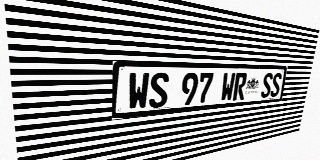7: (196, 73, 214, 104)
9: (180, 73, 199, 105)
R: (232, 73, 247, 101)
S: (149, 73, 169, 108), (260, 73, 273, 98), (270, 73, 282, 97)
W: (127, 72, 150, 110), (220, 73, 236, 102)
